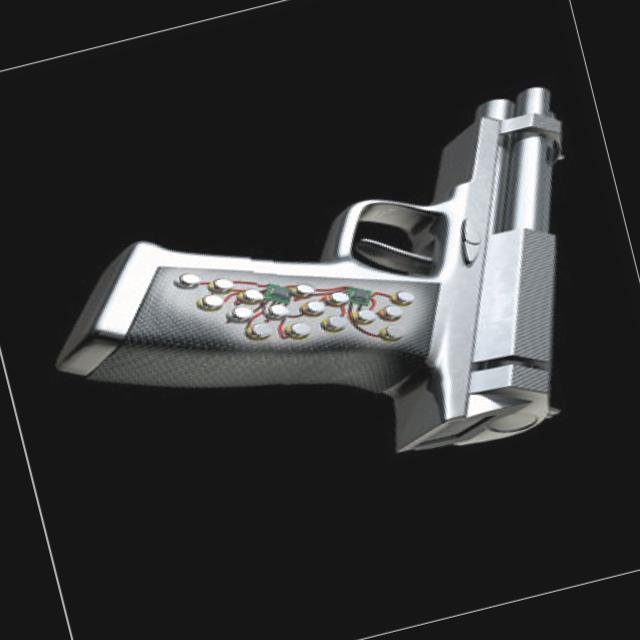handgun: (20, 74, 638, 536)
